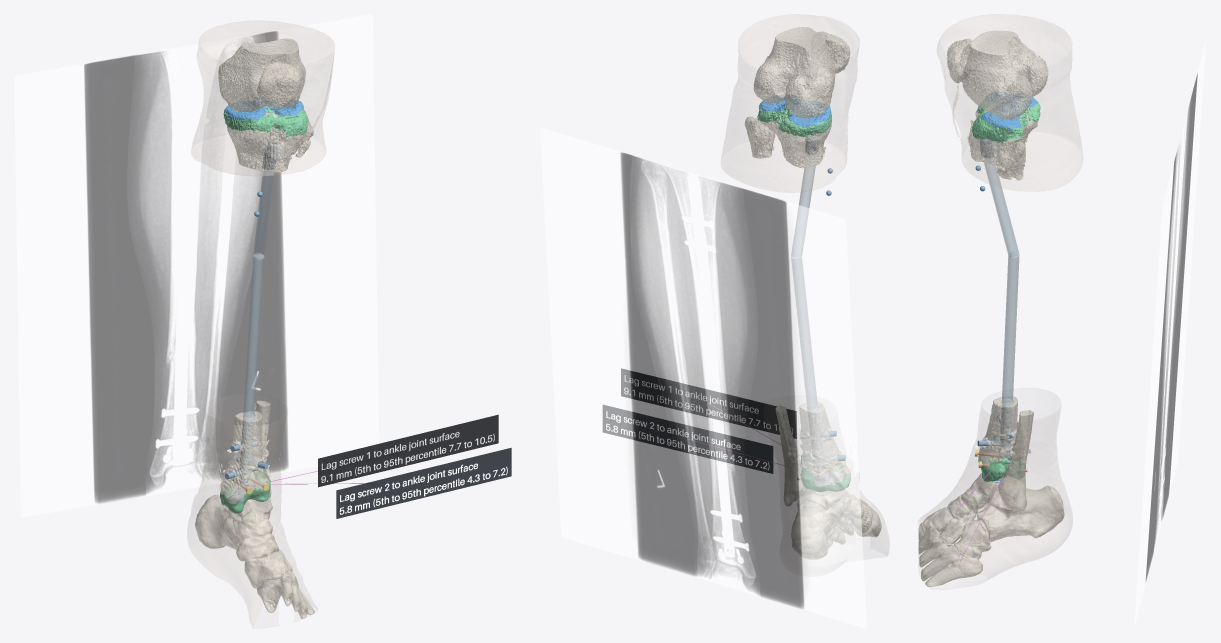
3 views of the same model, side by side, from view 1: azimuth 30°, elevation 25°; view 2: azimuth 150°, elevation 25°; view 3: azimuth 270°, elevation 25° (orthographic). The views are drawn at different scales.
Parts seen in each view (by area): view 1: radiograph, skin, tibia, implant_8, implant_16, tarsal, femur, nail_modelled, patella, metatarsal, capsule_band_knee, nail (+3 smaller); view 2: radiograph, skin, femur, implant_17, implant_9, tibia, tarsal, nail_modelled, fibula, articular_surface_knee, capsule_band_knee, metatarsal (+3 smaller); view 3: skin, radiograph, tarsal, femur, tibia, fibula, nail_modelled, metatarsal, capsule_band_knee, articular_surface_knee, nail, patella (+1 smaller).
Part boxes in pixels (bbox=[...]): radiograph: bbox=[14, 14, 379, 517]; skin: bbox=[187, 21, 334, 626]; tibia: bbox=[220, 108, 305, 513]; implant_8: bbox=[318, 414, 498, 487]; implant_16: bbox=[336, 447, 511, 518]; tarsal: bbox=[195, 492, 292, 588]; femur: bbox=[218, 38, 305, 112]; nail_modelled: bbox=[243, 171, 273, 417]; patella: bbox=[256, 61, 302, 110]; metatarsal: bbox=[257, 570, 314, 618]; capsule_band_knee: bbox=[223, 101, 307, 136]; nail: bbox=[239, 141, 277, 485]; radiograph: bbox=[540, 127, 866, 628]; skin: bbox=[721, 14, 889, 555]; femur: bbox=[753, 27, 835, 118]; implant_17: bbox=[603, 405, 772, 473]; implant_9: bbox=[621, 368, 796, 438]; tibia: bbox=[757, 105, 850, 486]; tarsal: bbox=[791, 488, 872, 559]; nail_modelled: bbox=[791, 166, 817, 409]; fibula: bbox=[744, 116, 804, 506]; articular_surface_knee: bbox=[759, 95, 830, 127]; capsule_band_knee: bbox=[757, 100, 831, 136]; metatarsal: bbox=[827, 508, 881, 547]; skin: bbox=[919, 14, 1082, 579]; radiograph: bbox=[1134, 40, 1206, 626]; tarsal: bbox=[923, 473, 1064, 558]; femur: bbox=[961, 30, 1048, 119]; tibia: bbox=[967, 111, 1038, 481]; fibula: bbox=[996, 141, 1033, 510]; nail_modelled: bbox=[984, 162, 1019, 403]; metatarsal: bbox=[918, 522, 982, 586]; capsule_band_knee: bbox=[972, 99, 1040, 143]; articular_surface_knee: bbox=[981, 91, 1037, 128]; nail: bbox=[980, 138, 1012, 460]; patella: bbox=[947, 38, 972, 83].
Size of the model in its own units: 0.3891 by 0.5338 by 0.2563.
Materials: 15 (3 with a texture image).
